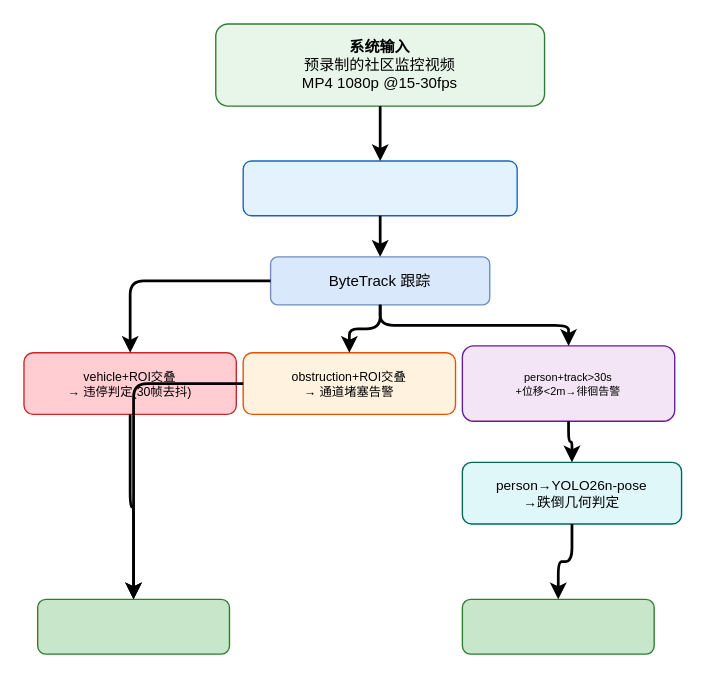
The diagram is 706 pixels wide and 678 high, and some of its shapes have lost their labels. The shapes that lost their labels are listed below. From the top down, each one's centre as x and y in pixels, then its label:
At point 379,188: "YOLO26n 检测(5类)".
At point 132,626: "带标注的视频流".
At point 557,626: "文本告警日志".
